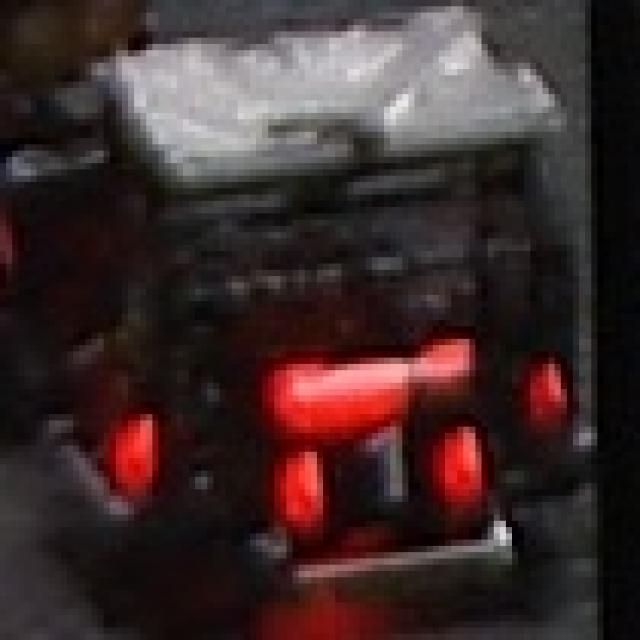R1: (274, 414, 500, 533)
